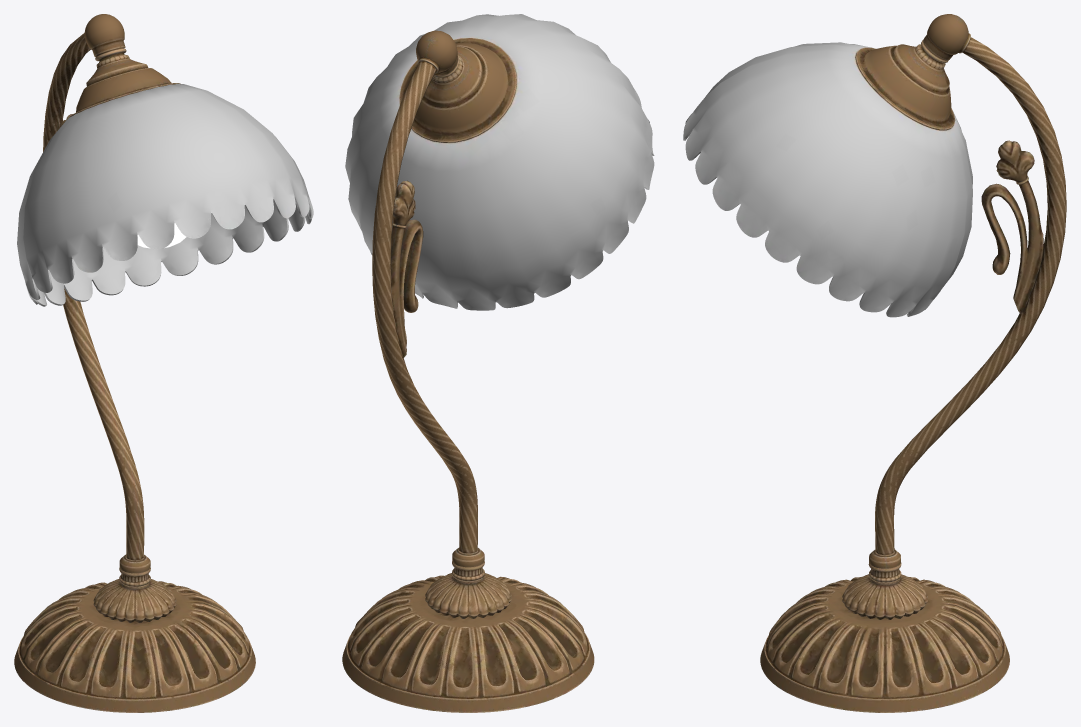
File: classic_table_lamp.glb
The picture shows the model from 3 angles, left to right: view 1: azimuth 30°, elevation 25°; view 2: azimuth 150°, elevation 25°; view 3: azimuth 270°, elevation 25°; orthographic projection. The views are drawn at different scales.
Parts seen in each view (by area): view 1: Lamp_1_low1_M_lamp_1_glass_0, Lamp_1_low1_M_lamp_1_base_0; view 2: Lamp_1_low1_M_lamp_1_glass_0, Lamp_1_low1_M_lamp_1_base_0; view 3: Lamp_1_low1_M_lamp_1_glass_0, Lamp_1_low1_M_lamp_1_base_0.
Part boxes in pixels (x1,y1,x2,y2): Lamp_1_low1_M_lamp_1_glass_0: [17, 83, 313, 306]; Lamp_1_low1_M_lamp_1_base_0: [14, 14, 255, 712]; Lamp_1_low1_M_lamp_1_glass_0: [345, 14, 654, 310]; Lamp_1_low1_M_lamp_1_base_0: [342, 30, 594, 712]; Lamp_1_low1_M_lamp_1_glass_0: [683, 42, 972, 317]; Lamp_1_low1_M_lamp_1_base_0: [760, 14, 1066, 712].
Size of the model in its own units: 0.2486 by 0.5783 by 0.312.
3 materials, 2 textured.
